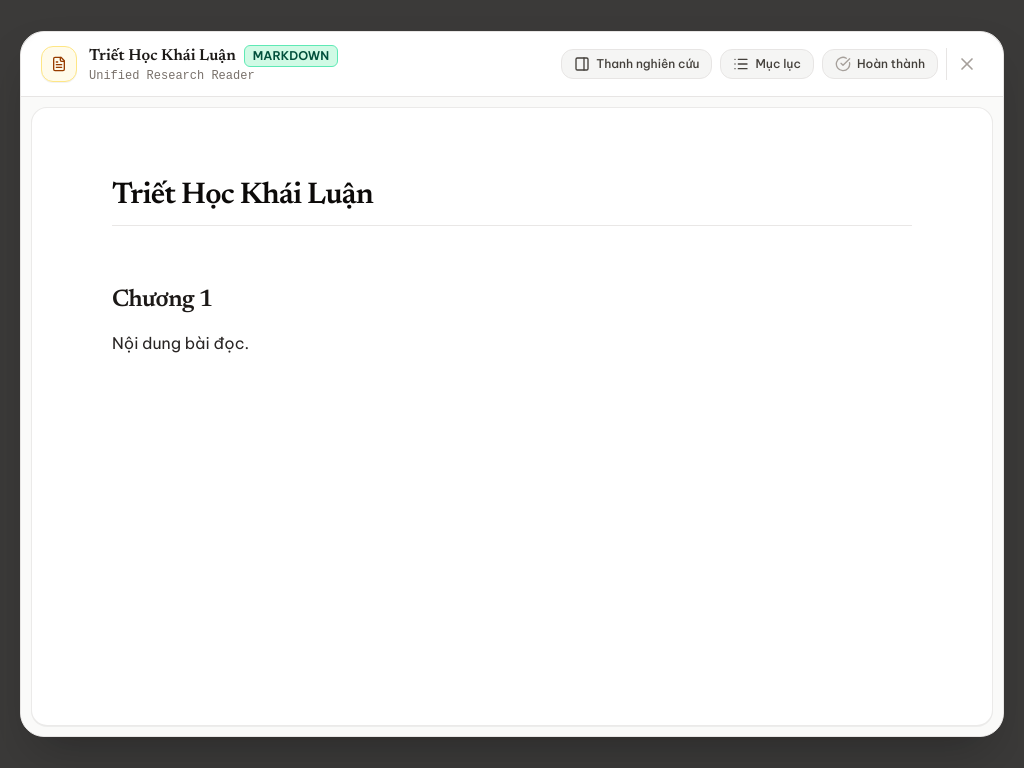
Test: Phase R2: Reader Sidebar Document-Scoped Notes › 2.2. matches legacy notes via title-based heuristic fallback
Click the button with test id "reader-toggle-sidebar-btn" at (637, 64), box [561,49,712,79]
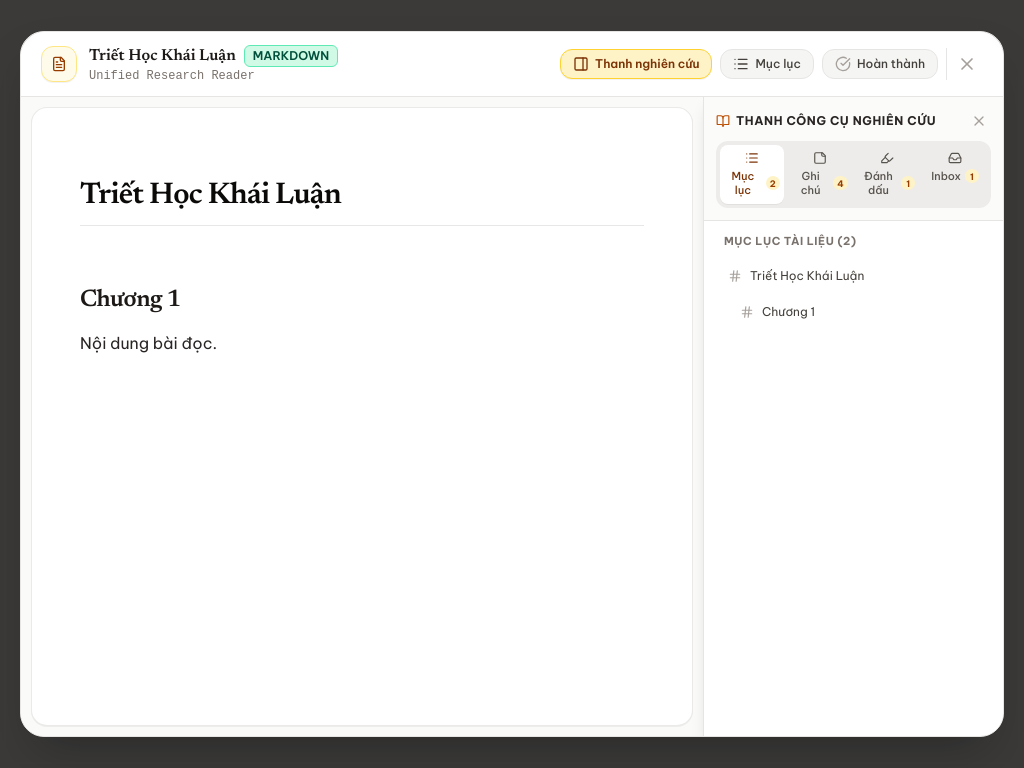
Click the tab with test id "sidebar-tab-notes" at (820, 174), box [788,145,852,204]
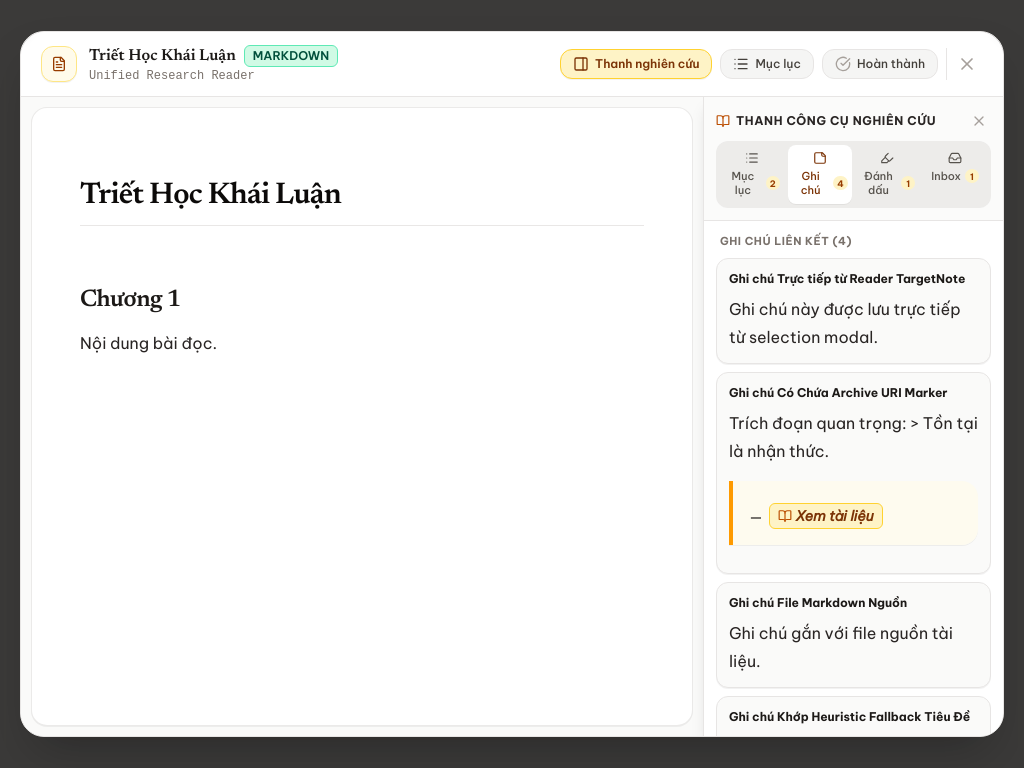
Expected: the heading "Ghi chú Khớp Heuristic Fallback Tiêu Đề" is shown, [729,708,970,724]
